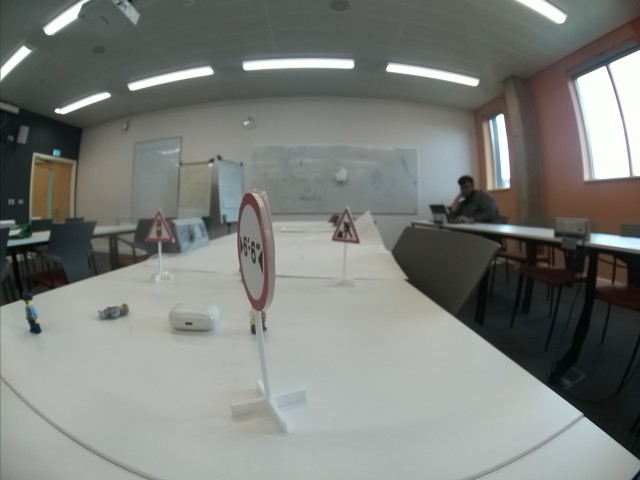6ft6: (236, 194, 275, 311)
Lego Man: (22, 291, 42, 333), (97, 301, 130, 319), (248, 304, 268, 333)
Roadworks: (331, 209, 362, 242)
Traffic lights: (146, 211, 177, 242)
